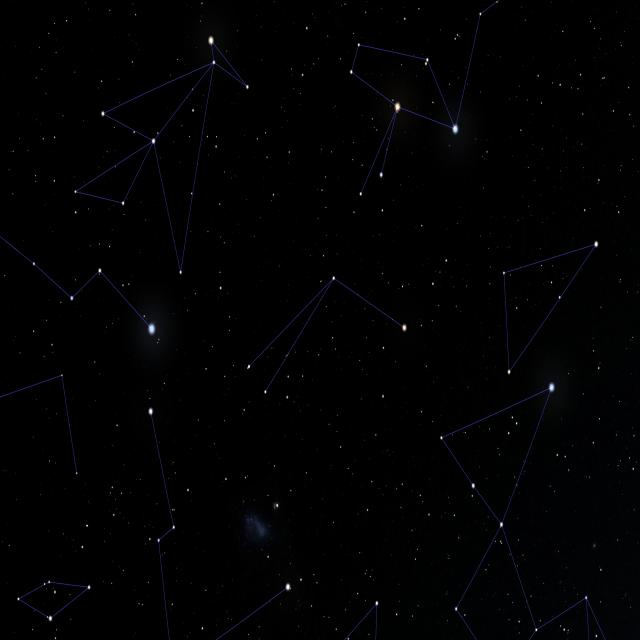Tucana: (242, 263, 435, 414)
